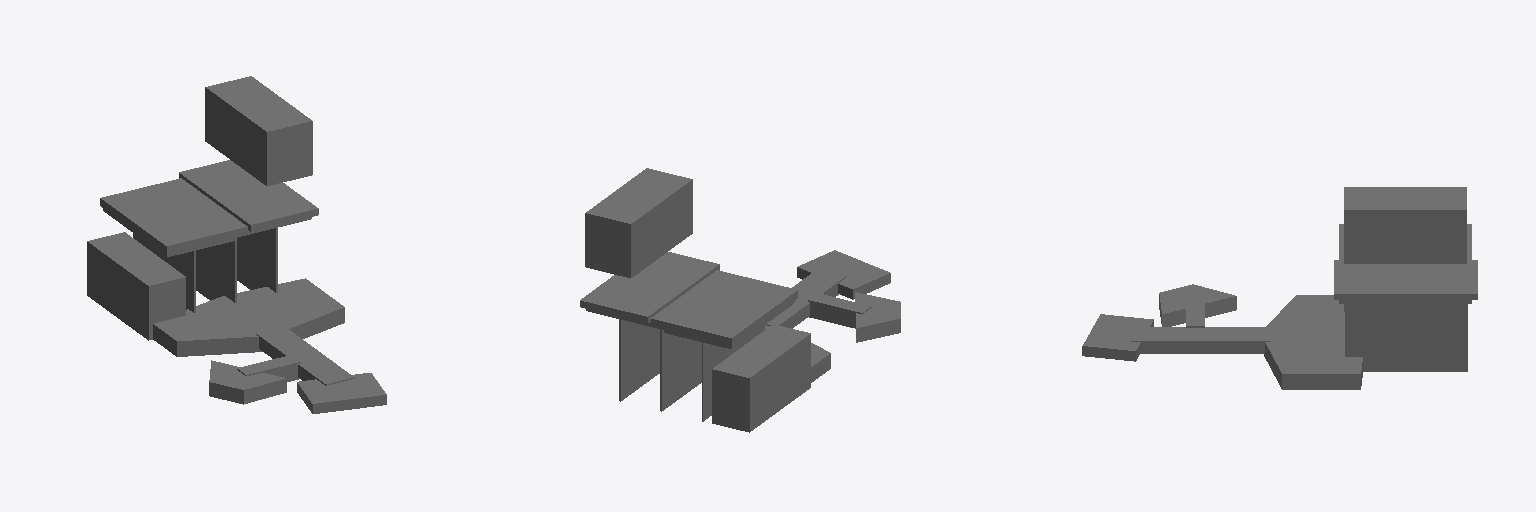
Rendered from b_Outter.obj.
3 renders of one model, left to right at view 1: azimuth 30°, elevation 25°; view 2: azimuth 150°, elevation 25°; view 3: azimuth 270°, elevation 25°, orthographic.
Visible parts, largest first — view 1: pCube69; view 2: pCube69; view 3: pCube69.
Part boxes in pixels (x1,y1,x2,y2): pCube69: (87,76,386,413); pCube69: (580,168,900,432); pCube69: (1082,187,1477,389).
Size of the model in its own units: 10.96 by 10.44 by 20.81.